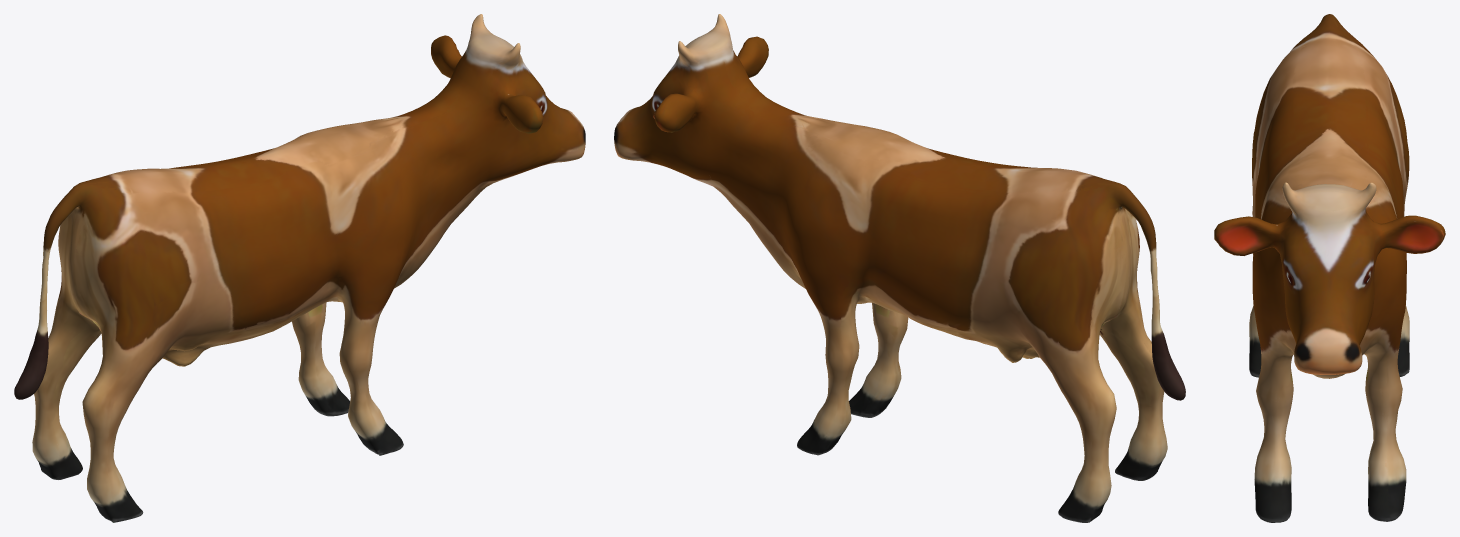
Rendered from cow.glb.
3 renders of one model, left to right at view 1: azimuth 30°, elevation 25°; view 2: azimuth 150°, elevation 25°; view 3: azimuth 270°, elevation 25°, orthographic. The views are drawn at different scales.
Parts seen in each view (by area): view 1: Mesh; view 2: Mesh; view 3: Mesh.
Part boxes in pixels (<box>): Mesh: <box>14,14,585,522</box>; Mesh: <box>614,14,1185,522</box>; Mesh: <box>1214,14,1445,522</box>.
Bounding box in the file's own units: 0.9523 × 0.5926 × 0.305.
Materials: 1 (1 with a texture image).
